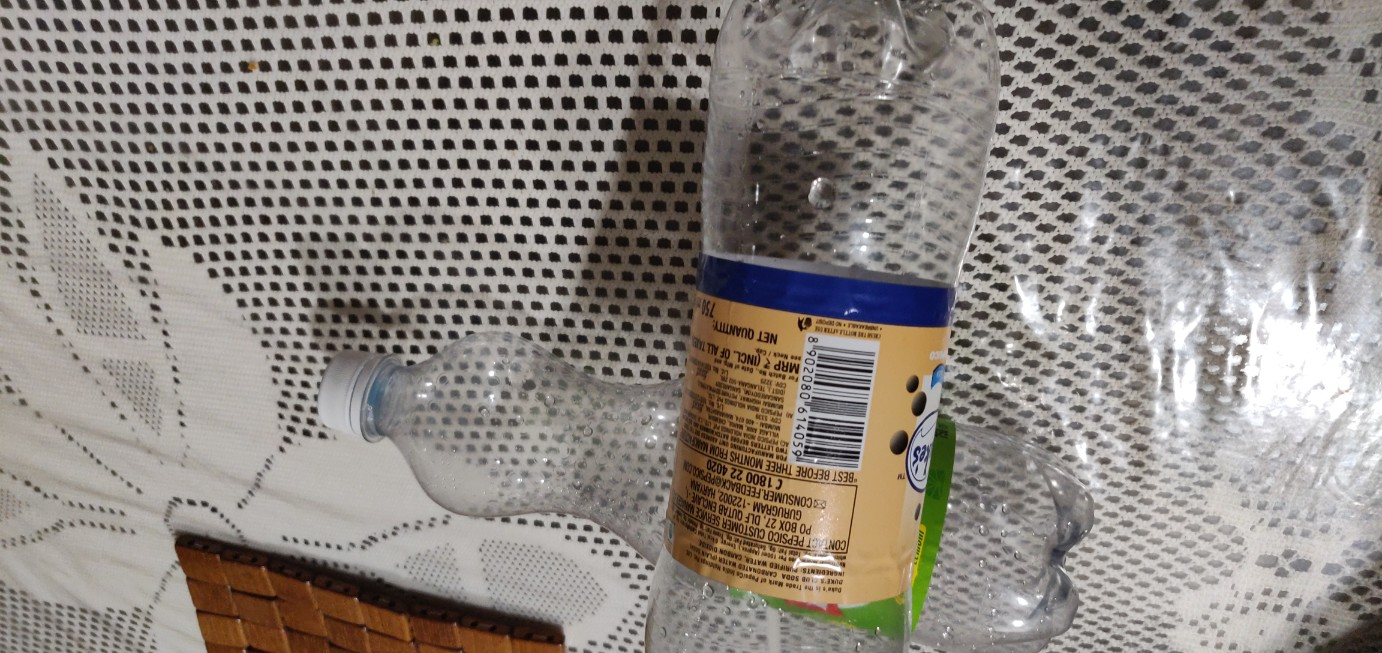Electronics: (290, 301, 1116, 651), (627, 1, 1019, 653)
